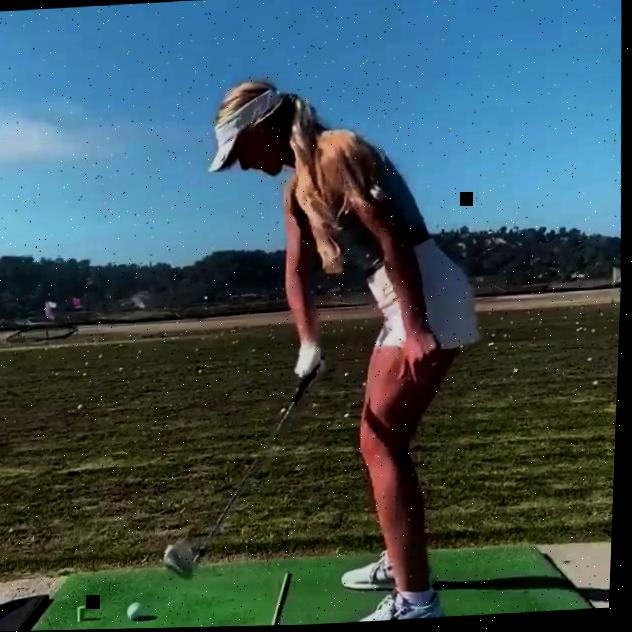ClubHead: (166, 537, 199, 584)
GolfBall: (129, 602, 148, 621)
